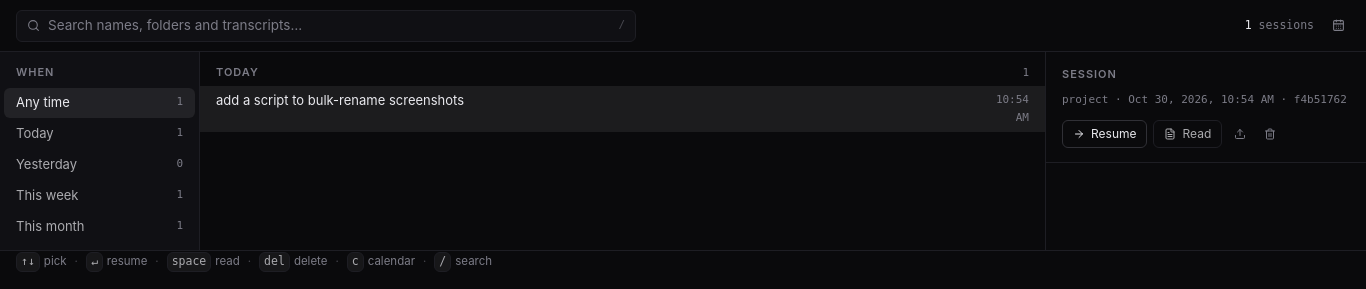
Scenario: SessionHistoryPanel transcript search › surfaces a session whose match is inside the transcript, not the preview
Check: the text "add a script to bulk-rename screenshots" is shown, box [216,92,464,108]
Type "429" into the field with placeholder "Search names, folders and transcripts…" at (329, 26), box [48,15,610,36]
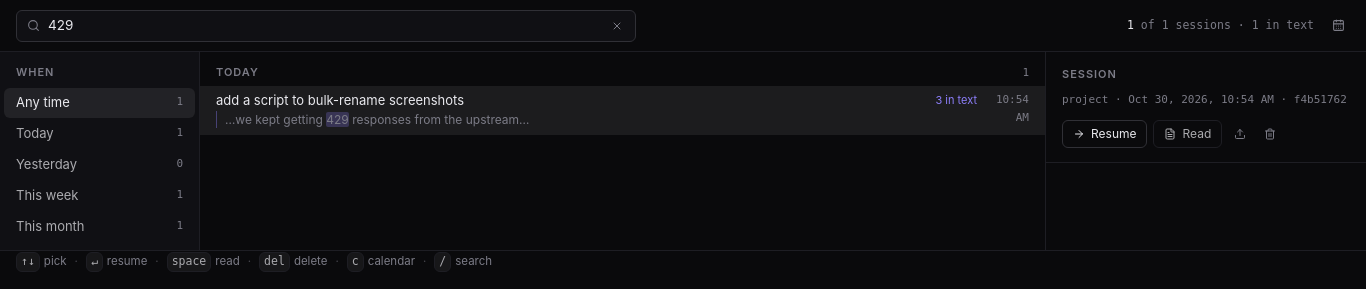
Check: the text "…we kept getting 429 responses from the upstream…" is shown, box [225,110,530,128]
Check: the text "3 in text" is shown, box [935,90,977,108]
